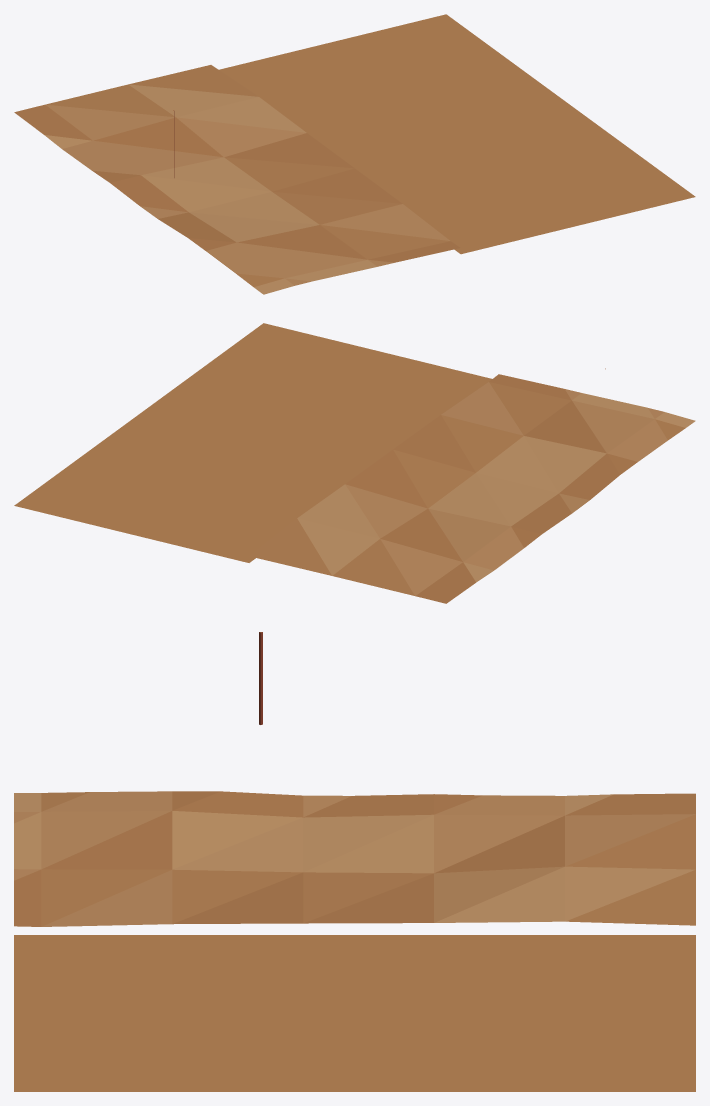
3 renders of one model, top to bottom at view 1: azimuth 30°, elevation 25°; view 2: azimuth 150°, elevation 25°; view 3: azimuth 270°, elevation 25°, orthographic. The views are drawn at different scales.
Visible parts, largest first — view 1: baked; view 2: baked; view 3: baked.
Boxes of the visible parts, x1,y1,x2,y2 form: baked: [14, 14, 695, 294]; baked: [14, 323, 695, 603]; baked: [14, 632, 695, 1091].
Size of the model in its own units: 62.5 by 17.35 by 62.5.
